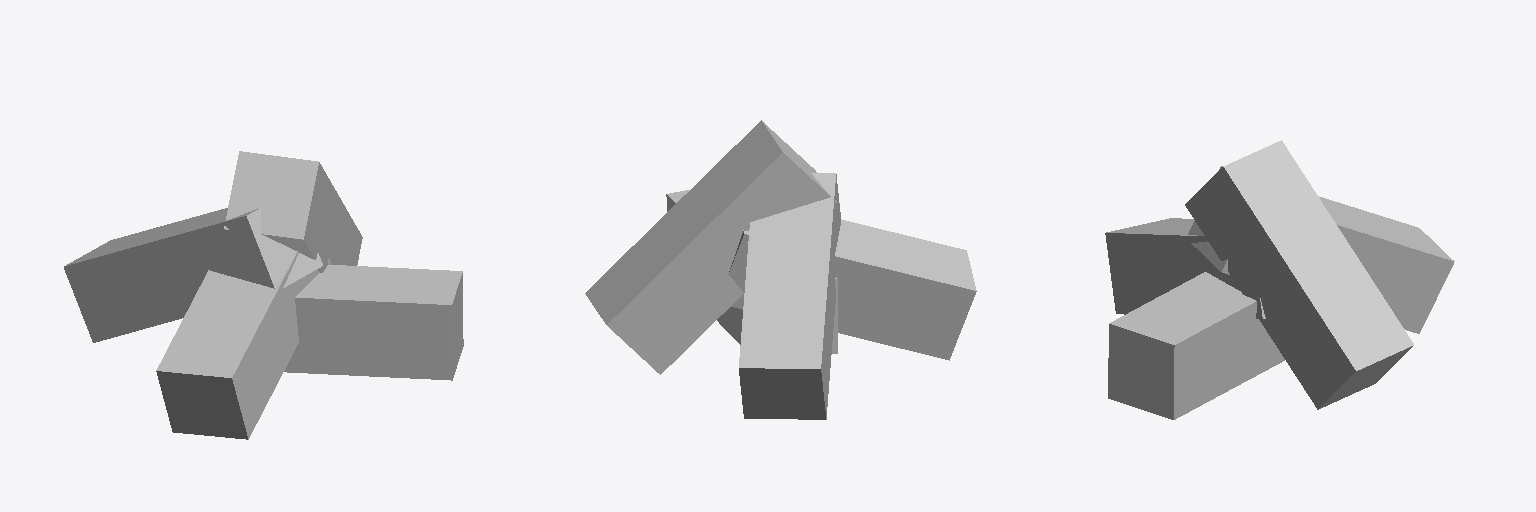
The model's file is campfire.obj.
3 renders of one model, left to right at view 1: azimuth 30°, elevation 25°; view 2: azimuth 150°, elevation 25°; view 3: azimuth 270°, elevation 25°, orthographic.
Parts seen in each view (by area): view 1: Cube; view 2: Cube; view 3: Cube.
Part boxes in pixels (left/top/right/bottom): Cube: left=64, top=151, right=463, bottom=439; Cube: left=585, top=120, right=976, bottom=419; Cube: left=1105, top=140, right=1454, bottom=419.
Size of the model in its own units: 1.08 by 0.7211 by 1.06.